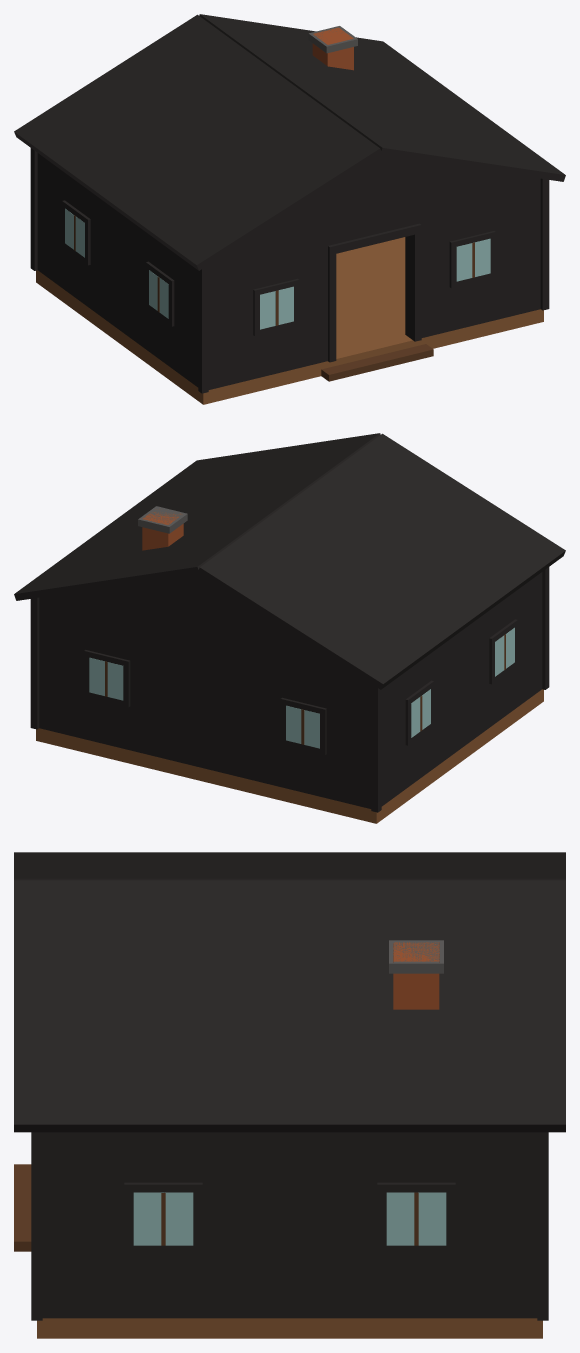
File: HouseMedium.fbx
3 views of the same model, one above another, from view 1: azimuth 30°, elevation 25°; view 2: azimuth 150°, elevation 25°; view 3: azimuth 270°, elevation 25° (orthographic). The views are drawn at different scales.
Visible parts, largest first — view 1: Roof, Wall, Floor, Trim, Detail; view 2: Roof, Wall, Trim, Floor, Detail; view 3: Roof, Wall, Floor, Detail, Trim.
Part boxes in pixels (left/top/right/bottom): Roof: left=14, top=14, right=565, bottom=270; Wall: left=37, top=153, right=540, bottom=389; Floor: left=36, top=237, right=543, bottom=404; Trim: left=30, top=148, right=549, bottom=393; Detail: left=65, top=26, right=490, bottom=329; Roof: left=14, top=433, right=565, bottom=689; Wall: left=39, top=572, right=542, bottom=808; Trim: left=30, top=567, right=549, bottom=812; Floor: left=36, top=689, right=543, bottom=823; Detail: left=89, top=506, right=514, bottom=748; Roof: left=14, top=852, right=565, bottom=1132; Wall: left=42, top=1132, right=537, bottom=1318; Floor: left=14, top=1164, right=542, bottom=1338; Detail: left=133, top=940, right=446, bottom=1245; Trim: left=31, top=1132, right=548, bottom=1320.
Bounding box in the file's own units: 28 × 16 × 24.
